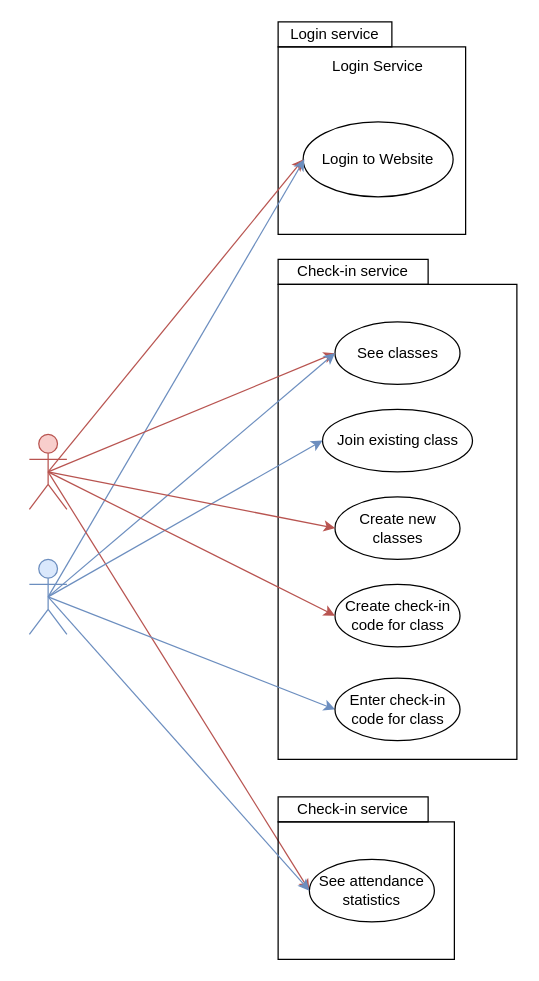
This 539x981 diagram has some shape labels left out. The centre of each missing label's shape, as x and y in pixels:
Student: the point at 47,596
Teacher: the point at 47,471
